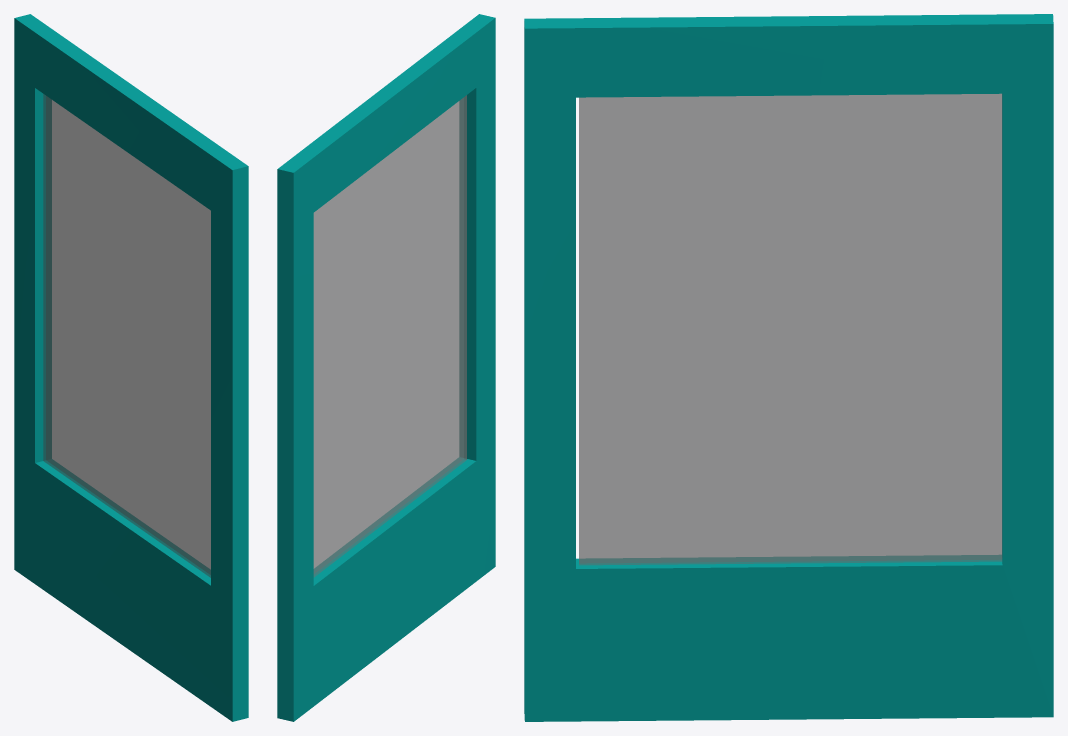
The model's file is _ANM_GlassDoor.fbx.
The picture shows the model from 3 angles, left to right: view 1: azimuth 30°, elevation 25°; view 2: azimuth 150°, elevation 25°; view 3: azimuth 270°, elevation 25°; orthographic projection. The views are drawn at different scales.
Parts seen in each view (by area): view 1: polySurface121, pCube810; view 2: polySurface121, pCube810; view 3: pCube810, polySurface121.
Part boxes in pixels (box(x1,y1,x2,y2)): polySurface121: box(14, 14, 248, 721); pCube810: box(43, 94, 210, 577); polySurface121: box(277, 14, 495, 721); pCube810: box(313, 95, 466, 577); pCube810: box(579, 93, 1002, 565); polySurface121: box(524, 14, 1053, 721).
Bounding box in the file's own units: 1.49 × 33.05 × 22.86.
